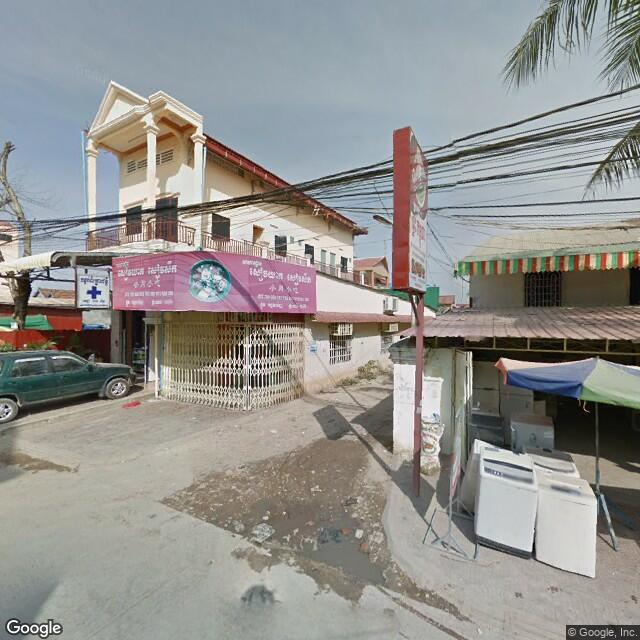litter: (252, 513, 276, 552), (118, 398, 146, 413)
